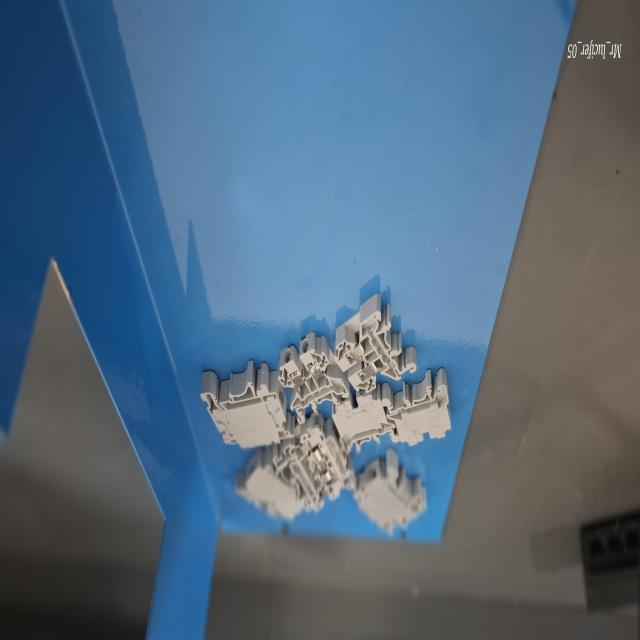Inverted: (380, 366, 457, 457)
Pass: (332, 296, 418, 402), (275, 322, 354, 425)
